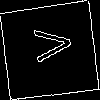V: (24, 26, 73, 64)
